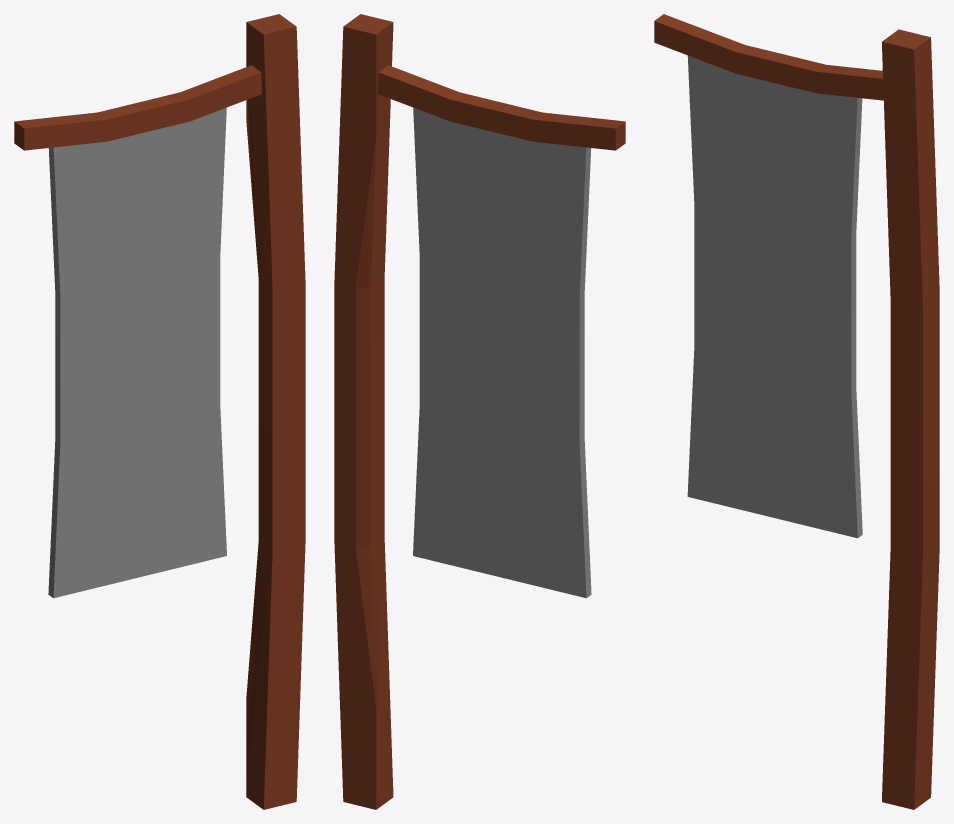
The model's file is Panel_01.FBX.
3 views of the same model, side by side, from view 1: azimuth 30°, elevation 25°; view 2: azimuth 150°, elevation 25°; view 3: azimuth 330°, elevation 25° (orthographic).
Visible parts, largest first — view 1: Panel_01; view 2: Panel_01; view 3: Panel_01.
Boxes of the visible parts, x1,y1,x2,y2 form: Panel_01: [14, 14, 305, 809]; Panel_01: [334, 14, 625, 809]; Panel_01: [654, 14, 939, 809].
Size of the model in its own units: 23.55 by 62.84 by 2.54.
